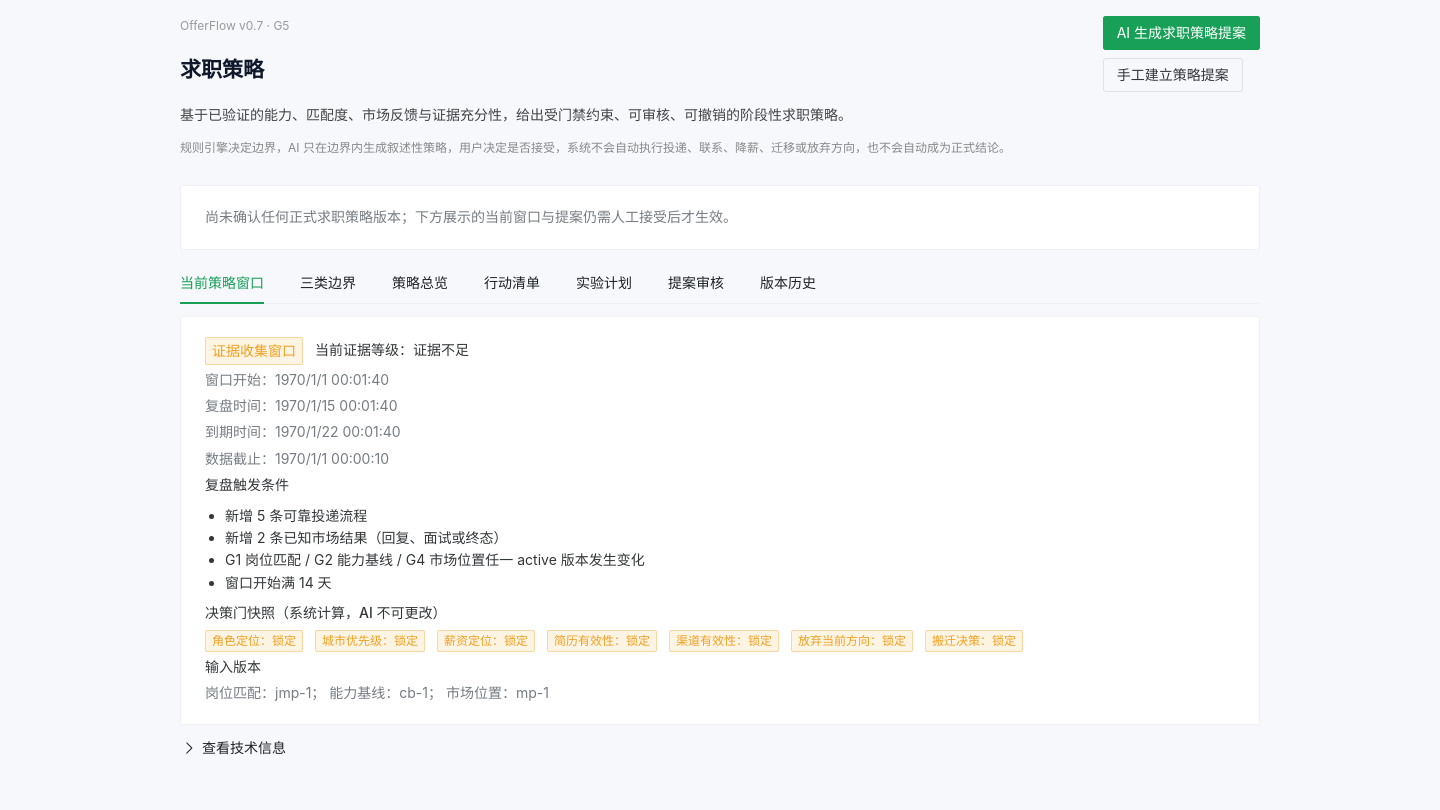
Scenario: StrategyWindowPage › 提案审核区展示来源标签与操作按钮
The width and height of the screenshot is (1440, 810).
Click the element with class "n-tabs-tab" showing "提案审核" at (696, 282), box left=668, top=274, right=724, bottom=291
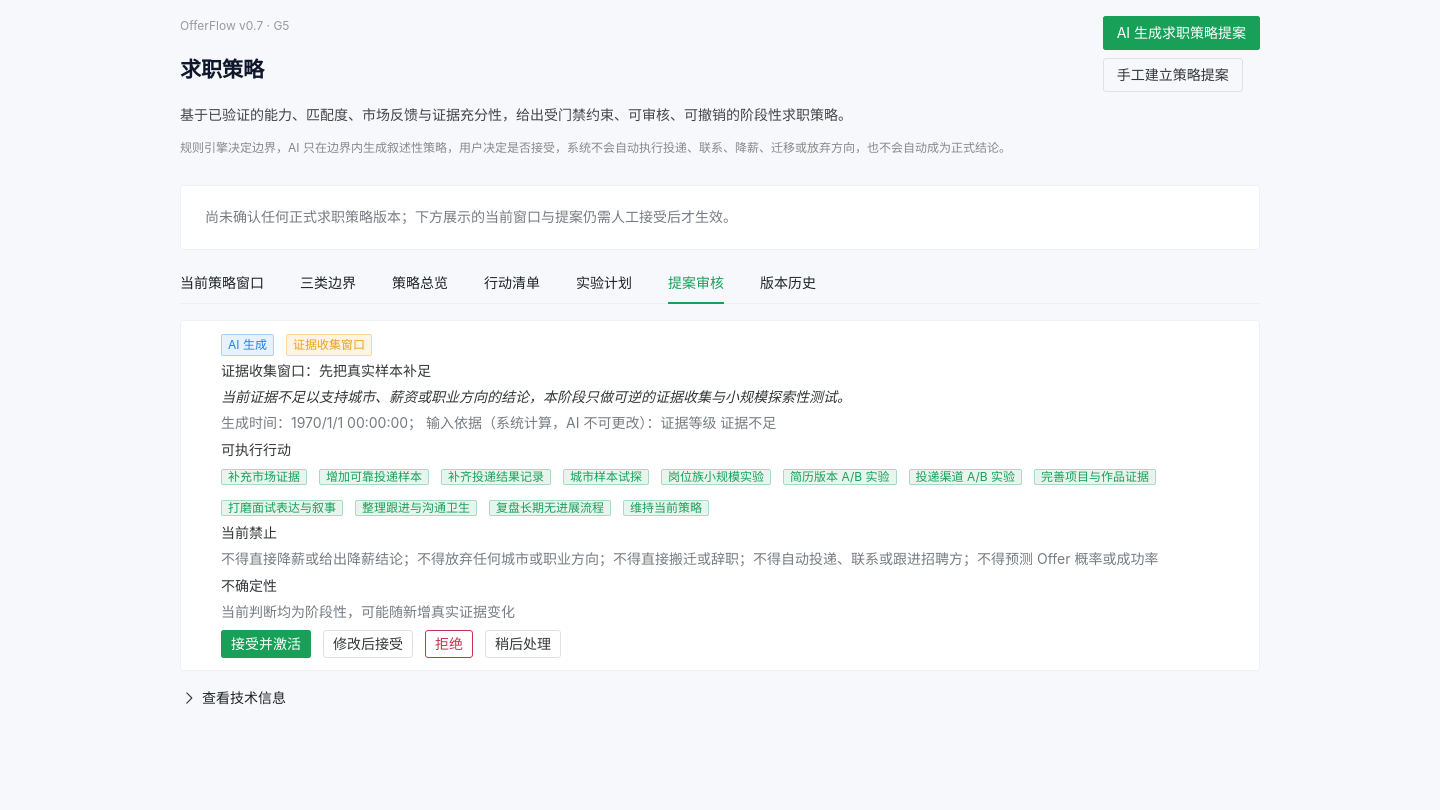
expect the list item with test id "sw-proposal-p-ai-1" is shown: met, box left=201, top=321, right=1259, bottom=670
expect the element with test id "sw-proposal-source" reads "AI 生成": met, box left=228, top=337, right=267, bottom=352
expect the button with test id "sw-prop-accept" is shown: met, box left=221, top=630, right=311, bottom=658
